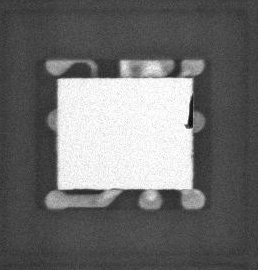DIE_BROKEN: (182, 93, 194, 131)
